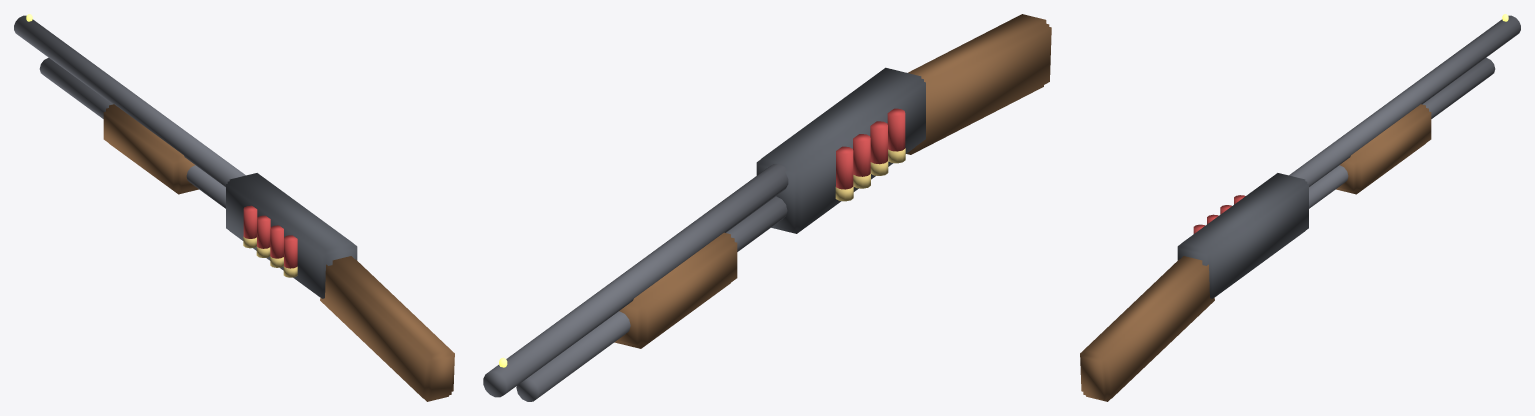
File: weapon-shotgun.glb
3 views of the same model, side by side, from view 1: azimuth 30°, elevation 25°; view 2: azimuth 150°, elevation 25°; view 3: azimuth 330°, elevation 25° (orthographic). The views are drawn at different scales.
Visible parts, largest first — view 1: Receiver, Pump; view 2: Receiver, Pump; view 3: Receiver, Pump.
Boxes of the visible parts, bbox=[...] form: Receiver: bbox=[14, 14, 454, 401]; Pump: bbox=[103, 104, 198, 194]; Receiver: bbox=[483, 14, 1051, 401]; Pump: bbox=[614, 232, 737, 348]; Receiver: bbox=[1080, 14, 1520, 401]; Pump: bbox=[1336, 104, 1431, 194].
Size of the model in its own units: 0.0644 by 0.1131 by 1.
